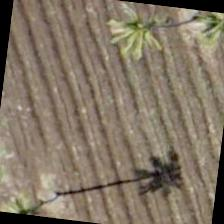Kelapa_Sawit: (88, 0, 187, 79), (0, 161, 76, 220), (178, 8, 223, 66)
